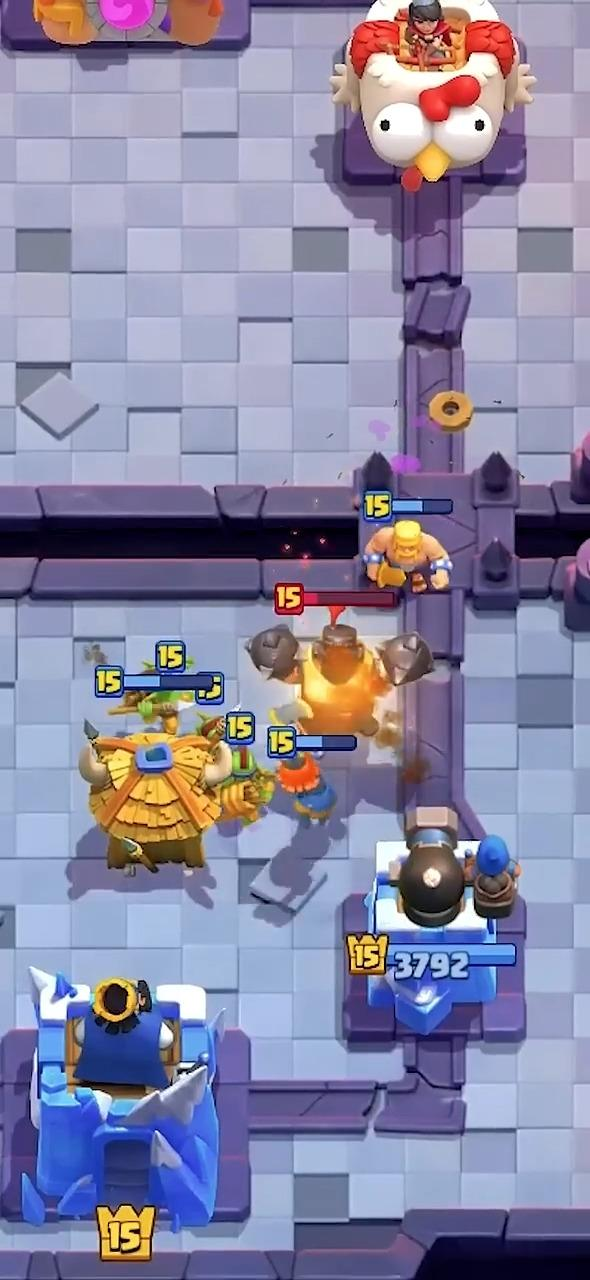barbarian: (364, 520, 452, 593)
goblin hut: (79, 732, 231, 868)
mega knight: (246, 606, 433, 736)
spear goblin: (220, 747, 274, 824), (109, 685, 192, 735)
valkyrie: (276, 751, 336, 824)
